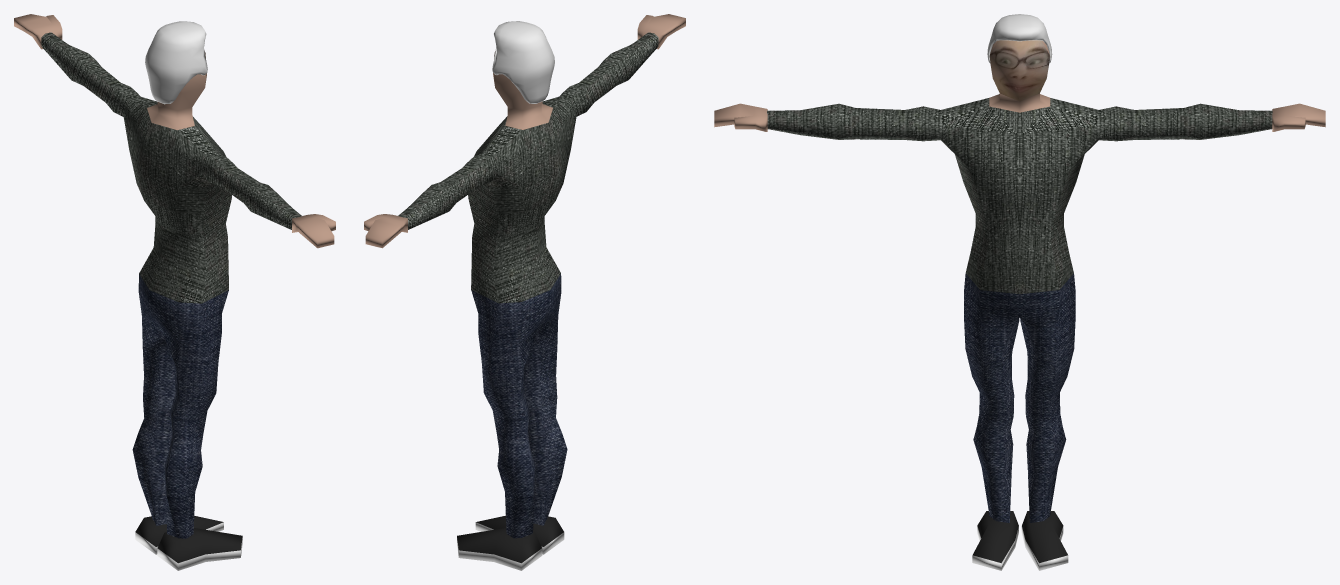
Rendered from Borys.fbx.
The picture shows the model from 3 angles, left to right: view 1: azimuth 30°, elevation 25°; view 2: azimuth 150°, elevation 25°; view 3: azimuth 270°, elevation 25°; orthographic projection.
Visible parts, largest first — view 1: Kawux.001; view 2: Kawux.001; view 3: Kawux.001.
Part boxes in pixels (x1,y1,x2,y2): Kawux.001: [14, 14, 335, 570]; Kawux.001: [364, 14, 685, 570]; Kawux.001: [714, 14, 1325, 570].
Size of the model in its own units: 78.95 by 420 by 443.
Materials: 7 (3 with a texture image).
